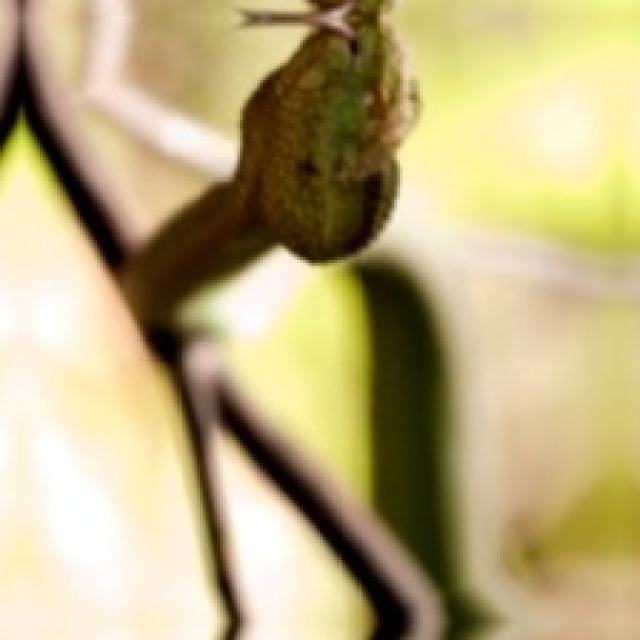north ph temple pitviper: (0, 0, 463, 637)
